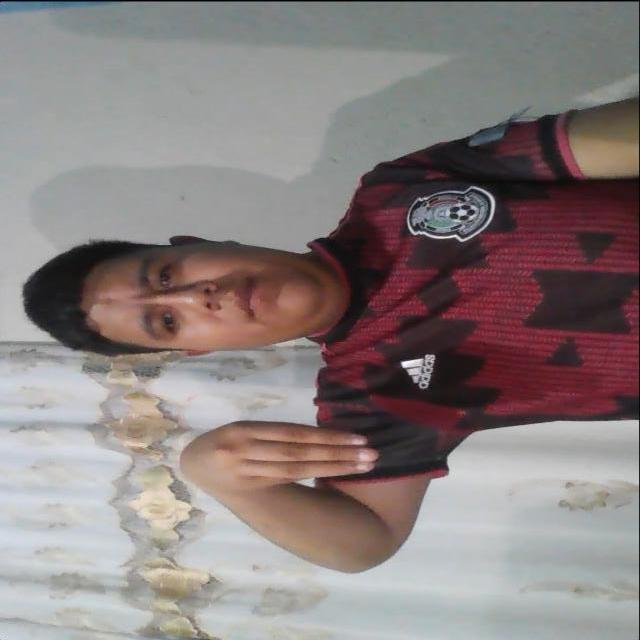M: (170, 410, 403, 502)
